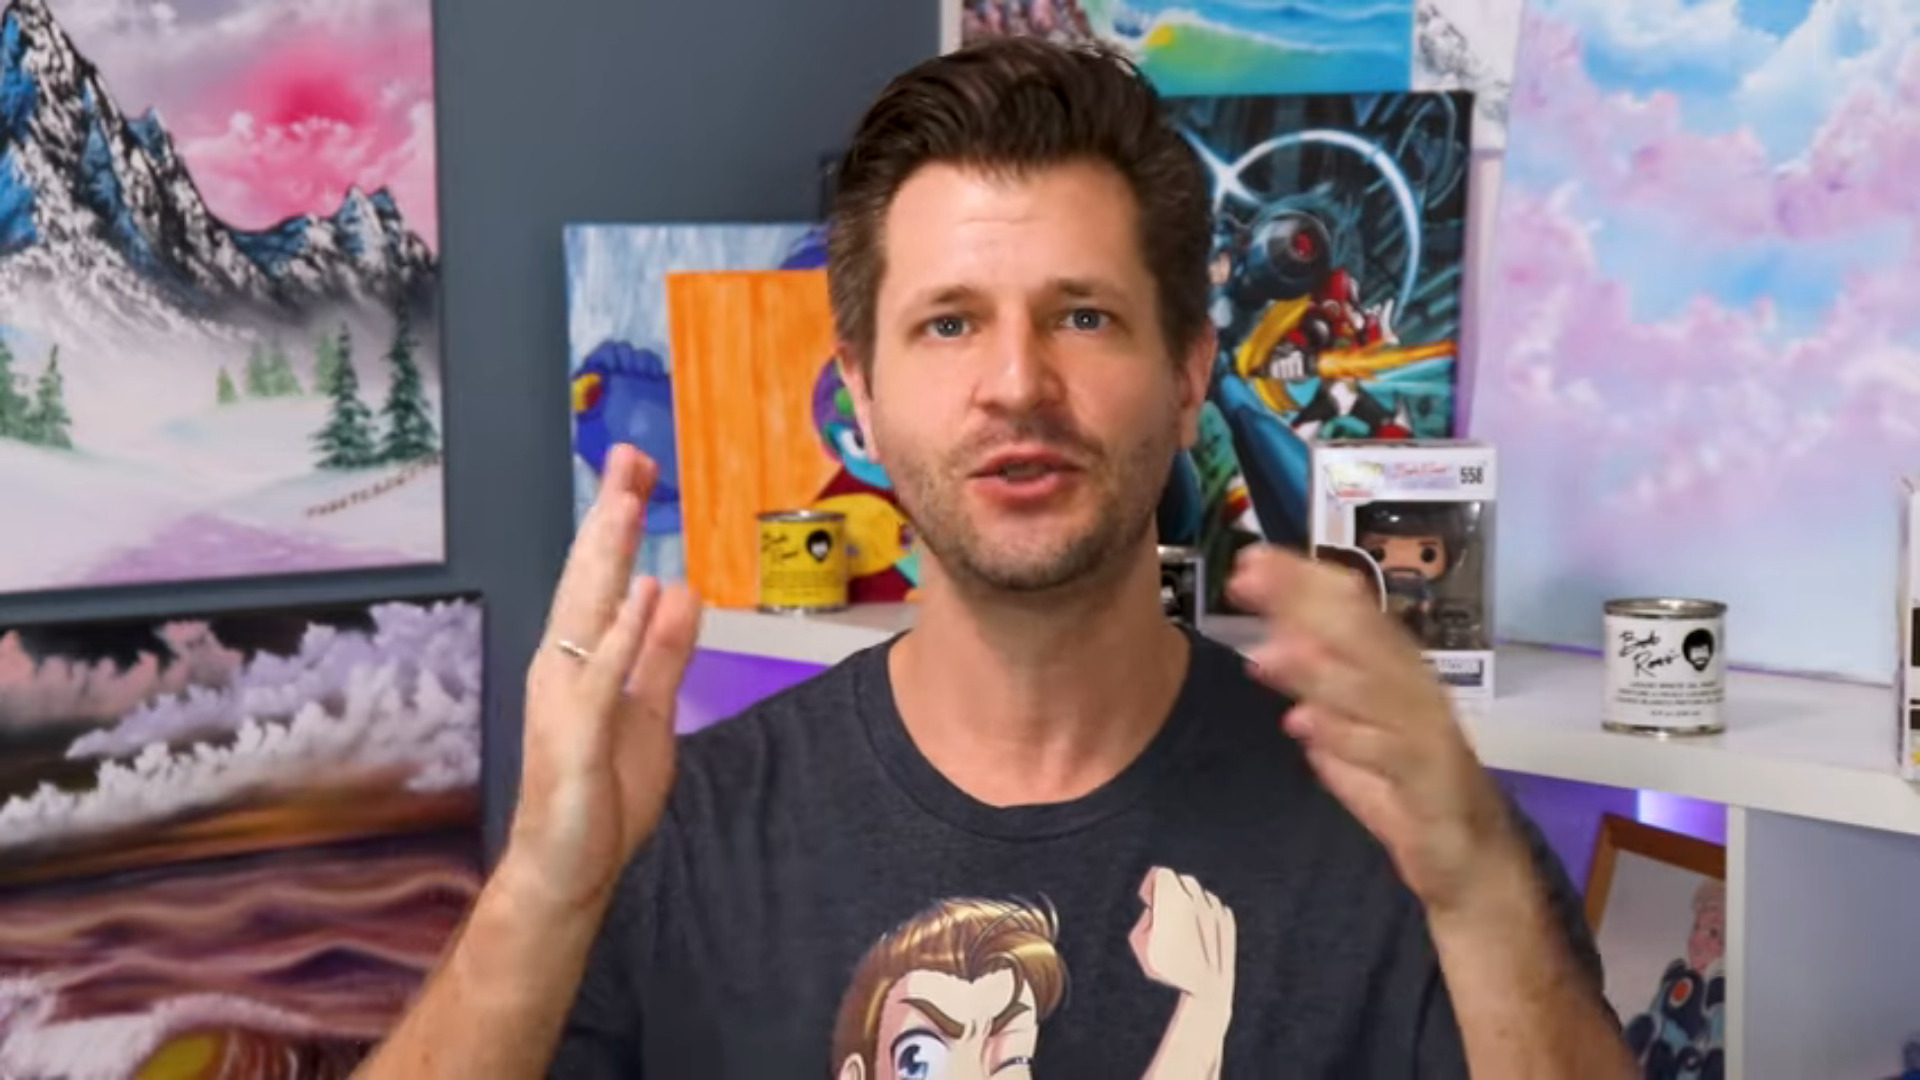hand: (1224, 532, 1548, 920), (515, 439, 721, 902)
